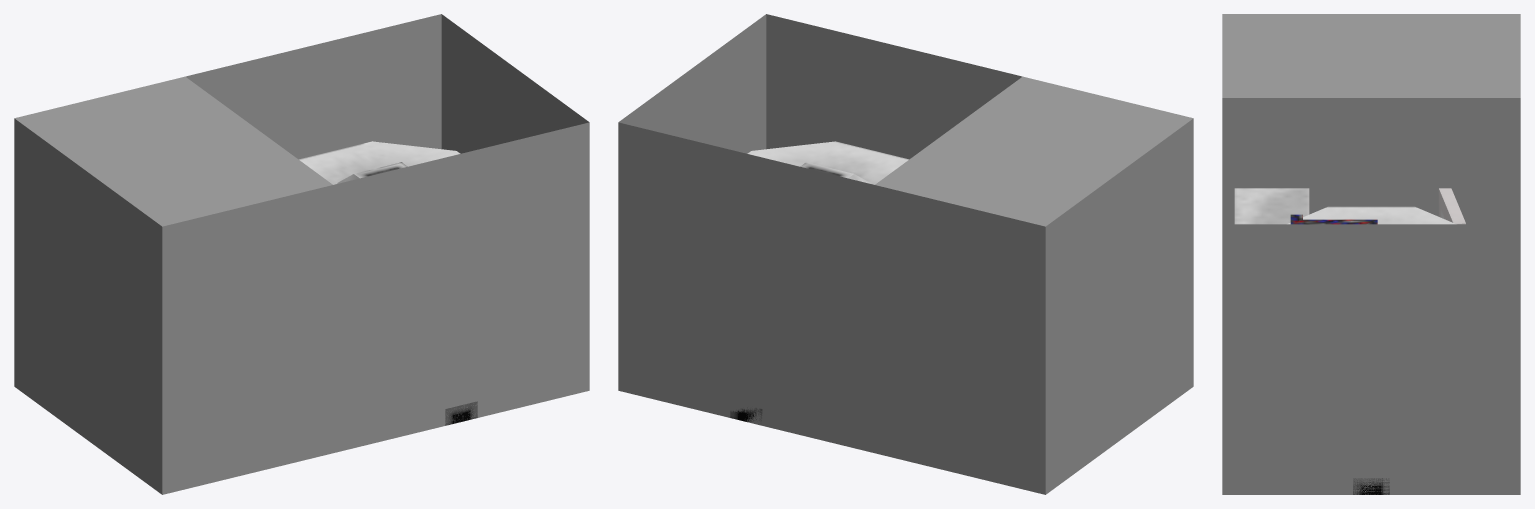
File: transporter.obj
The picture shows the model from 3 angles, left to right: view 1: azimuth 30°, elevation 25°; view 2: azimuth 150°, elevation 25°; view 3: azimuth 270°, elevation 25°; orthographic projection.
Visible parts, largest first — view 1: Minecraft_Block_Cube, main; view 2: Minecraft_Block_Cube, main; view 3: Minecraft_Block_Cube, ext_power, main, ext_control.
Part boxes in pixels (x1,y1,x2,y2): Minecraft_Block_Cube: [14, 14, 589, 494]; main: [299, 141, 477, 425]; Minecraft_Block_Cube: [618, 14, 1193, 494]; main: [730, 141, 908, 421]; Minecraft_Block_Cube: [1222, 14, 1520, 494]; ext_power: [1234, 188, 1377, 224]; main: [1287, 206, 1455, 494]; ext_control: [1438, 188, 1465, 224].
Bounding box in the file's own units: 5 × 3 × 3.
